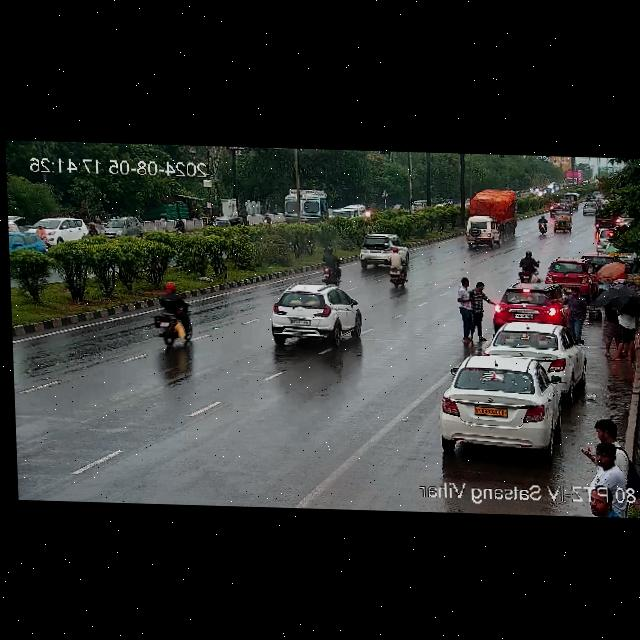car: (433, 354, 576, 455), (264, 283, 363, 345), (484, 323, 583, 382), (493, 283, 568, 327), (353, 235, 411, 269), (35, 215, 89, 244), (545, 261, 596, 290), (91, 214, 145, 240), (464, 215, 500, 249), (9, 234, 44, 263), (547, 214, 577, 235), (203, 216, 245, 231), (580, 251, 612, 268), (337, 200, 366, 218), (597, 227, 614, 250), (548, 199, 572, 214), (584, 201, 598, 216), (414, 200, 428, 212), (595, 196, 604, 203)
motorcycle: (152, 282, 197, 347), (389, 247, 414, 288), (319, 245, 344, 282), (515, 252, 542, 284), (534, 215, 551, 235), (175, 215, 185, 233), (36, 224, 45, 236), (585, 193, 595, 201)
person: (578, 420, 635, 493), (449, 275, 489, 346), (587, 437, 628, 488), (605, 309, 637, 363), (566, 286, 586, 337)
truck: (460, 189, 524, 226), (281, 186, 328, 227), (562, 169, 582, 188), (570, 192, 578, 209)
